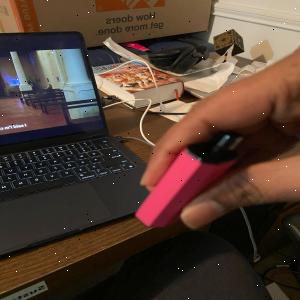Blume-E-Ciggirate: (131, 129, 244, 229)
